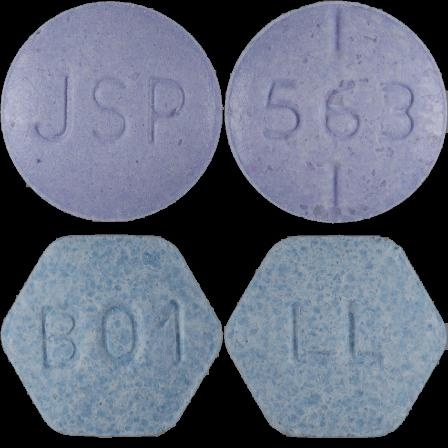66336-571: (0, 0, 224, 224)
